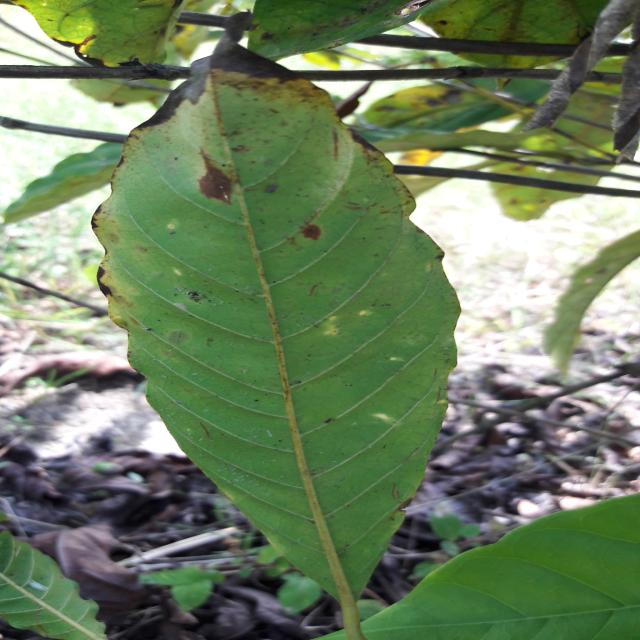Plaga-AranaRoja: (91, 42, 461, 640)
